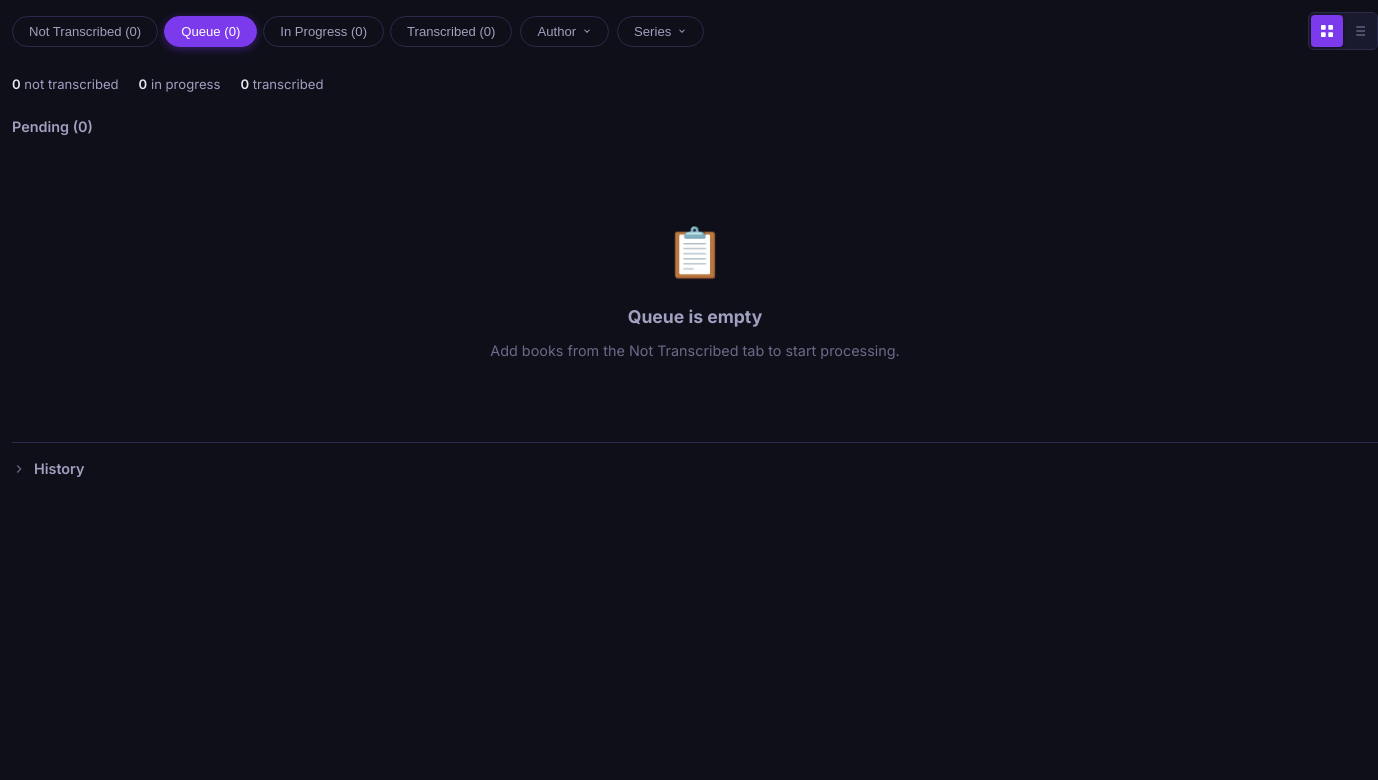
Scenario: Retry on the Queue tab history (issue #247) › surfaces a failure instead of failing silently
The width and height of the screenshot is (1378, 780).
Click the element with class "transcription-history-toggle" at (695, 468), box [12,442,1377,494]
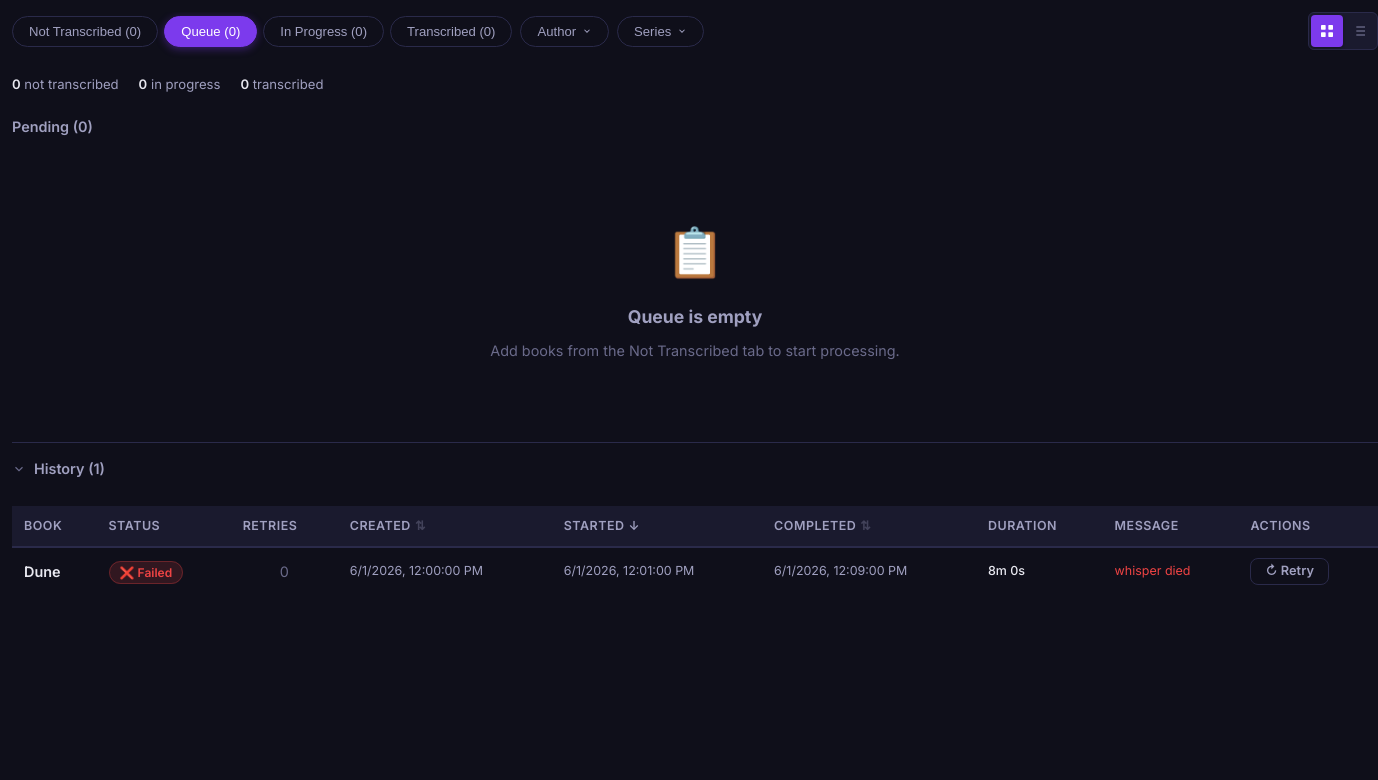
Expected: the text "Dune" is shown, [24,563,60,580]
Click the button "↻ Retry" at (1290, 571), box [1250,558,1329,585]
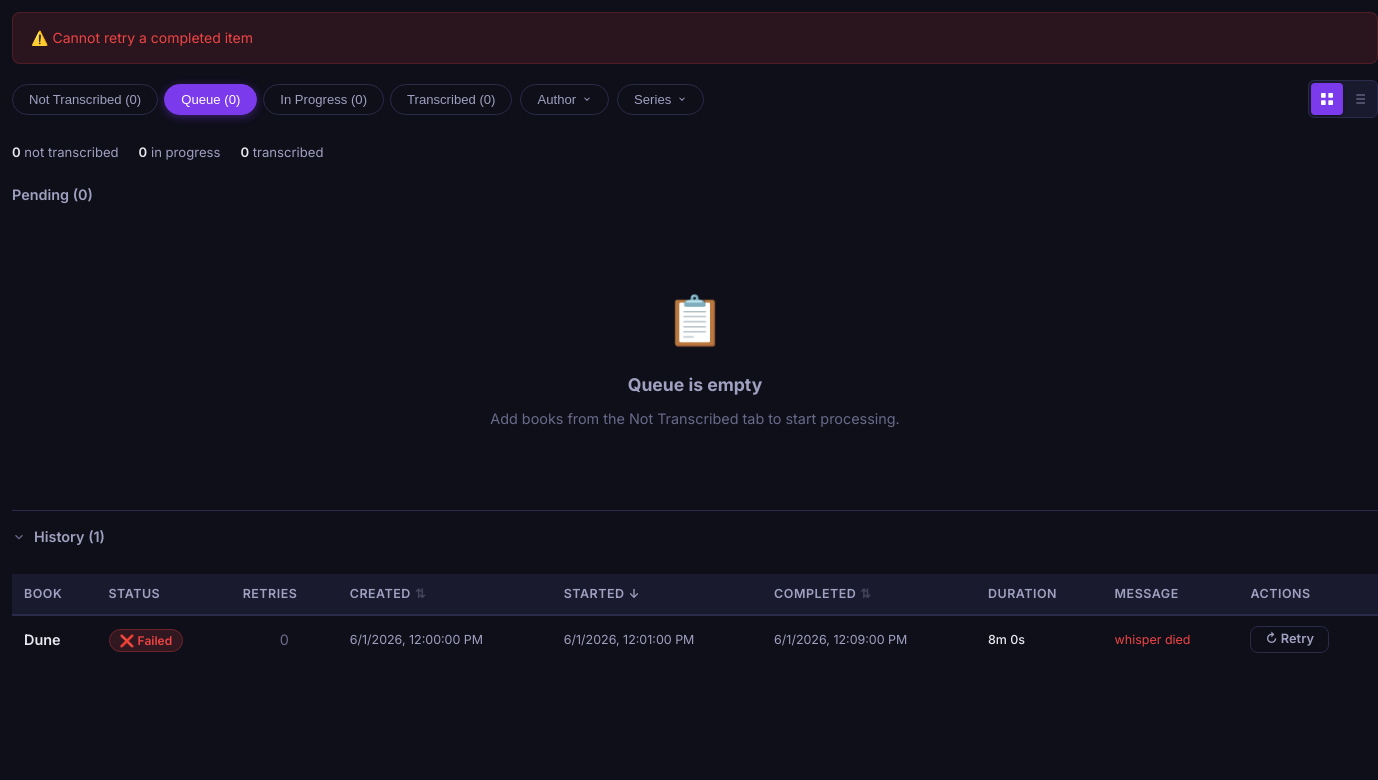
Expected: the text "⚠️ Cannot retry a completed item" is shown, [12,12,1377,64]
